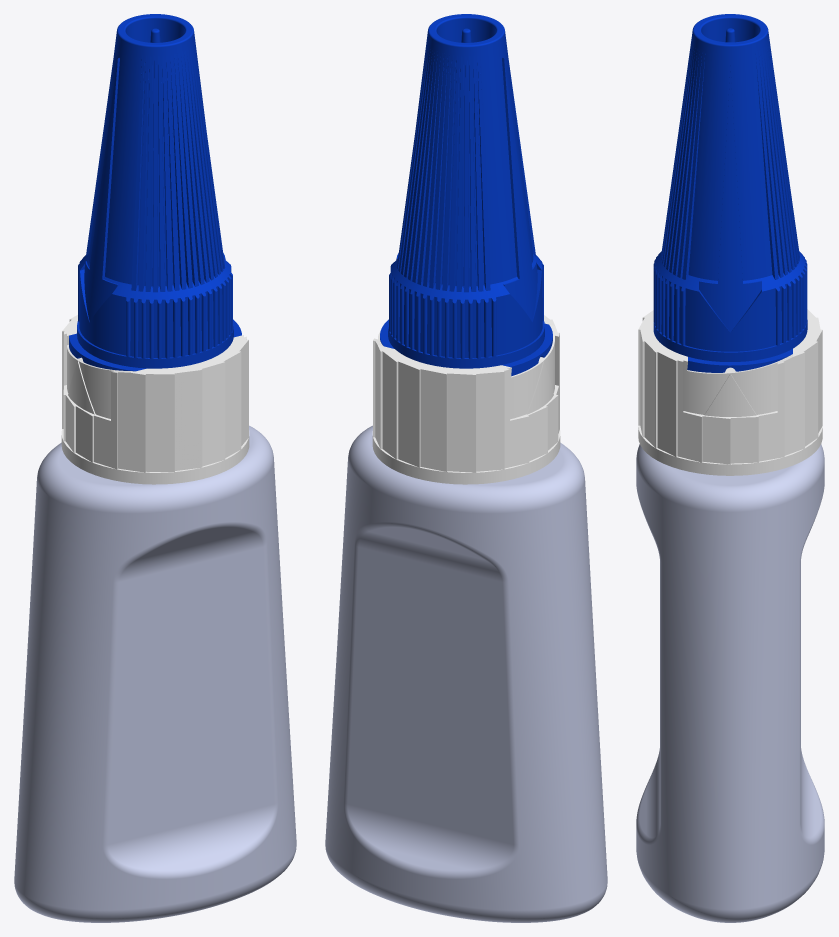
The model's file is glue.obj.
3 views of the same model, side by side, from view 1: azimuth 30°, elevation 25°; view 2: azimuth 150°, elevation 25°; view 3: azimuth 270°, elevation 25° (orthographic).
Visible parts, largest first — view 1: |Super_Glue_Assembly|Root|Super_Glue_Glue_Body-1|color, |Super_Glue_Assembly|Root|Super_Glue_Glue_Cap-1|blue_high_gloss_, |Super_Glue_Assembly|Root|Super_Glue_Glue_Nozzle-1|white_high_gl; view 2: |Super_Glue_Assembly|Root|Super_Glue_Glue_Body-1|color, |Super_Glue_Assembly|Root|Super_Glue_Glue_Cap-1|blue_high_gloss_, |Super_Glue_Assembly|Root|Super_Glue_Glue_Nozzle-1|white_high_gl; view 3: |Super_Glue_Assembly|Root|Super_Glue_Glue_Body-1|color, |Super_Glue_Assembly|Root|Super_Glue_Glue_Cap-1|blue_high_gloss_, |Super_Glue_Assembly|Root|Super_Glue_Glue_Nozzle-1|white_high_gl.
Boxes of the visible parts, x1,y1,x2,y2 form: |Super_Glue_Assembly|Root|Super_Glue_Glue_Body-1|color: (14, 425, 296, 922); |Super_Glue_Assembly|Root|Super_Glue_Glue_Cap-1|blue_high_gloss_: (69, 14, 241, 371); |Super_Glue_Assembly|Root|Super_Glue_Glue_Nozzle-1|white_high_gl: (61, 315, 249, 484); |Super_Glue_Assembly|Root|Super_Glue_Glue_Body-1|color: (325, 425, 607, 922); |Super_Glue_Assembly|Root|Super_Glue_Glue_Cap-1|blue_high_gloss_: (380, 14, 552, 376); |Super_Glue_Assembly|Root|Super_Glue_Glue_Nozzle-1|white_high_gl: (372, 315, 560, 484); |Super_Glue_Assembly|Root|Super_Glue_Glue_Body-1|color: (636, 444, 824, 922); |Super_Glue_Assembly|Root|Super_Glue_Glue_Cap-1|blue_high_gloss_: (653, 14, 807, 372); |Super_Glue_Assembly|Root|Super_Glue_Glue_Nozzle-1|white_high_gl: (638, 309, 822, 475).
Bounding box in the file's own units: 0.0365 × 0.1119 × 0.0229.
